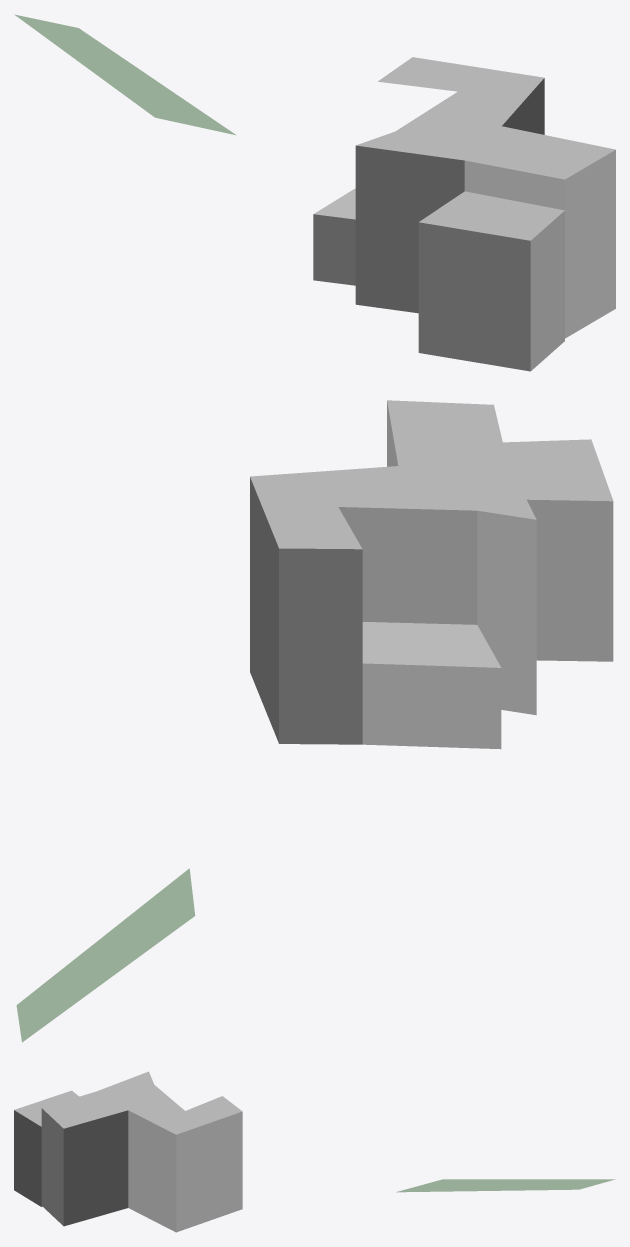
3 views of the same model, one above another, from view 1: azimuth 30°, elevation 25°; view 2: azimuth 150°, elevation 25°; view 3: azimuth 270°, elevation 25° (orthographic). The views are drawn at different scales.
Bounding box in the file's own units: 71.4 × 50.55 × 278.
